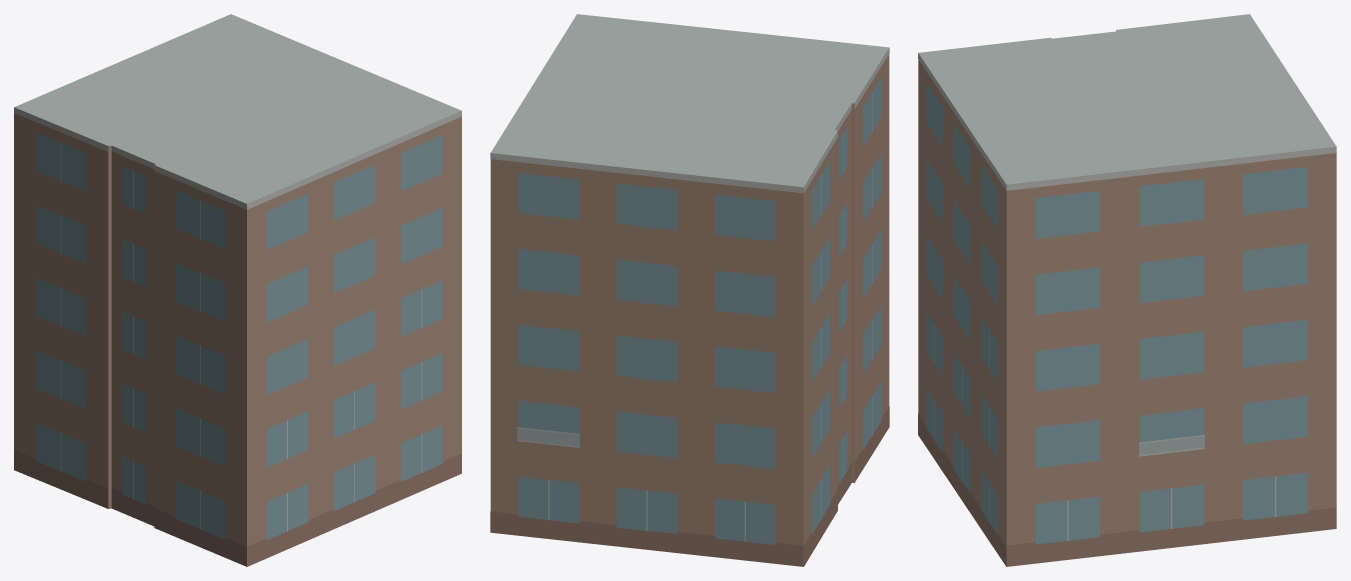
Rendered from survey-upis-32661493.glb.
3 renders of one model, left to right at view 1: azimuth 30°, elevation 25°; view 2: azimuth 150°, elevation 25°; view 3: azimuth 270°, elevation 25°, orthographic. The views are drawn at different scales.
Parts seen in each view (by area): view 1: survey-upis-32661493.tmp; view 2: survey-upis-32661493.tmp; view 3: survey-upis-32661493.tmp.
Part boxes in pixels (box(x1,y1,x2,y2)): survey-upis-32661493.tmp: box(14, 14, 461, 566); survey-upis-32661493.tmp: box(490, 14, 889, 566); survey-upis-32661493.tmp: box(918, 14, 1336, 566).
Bounding box in the file's own units: 14.58 × 15.2 × 15.1.
